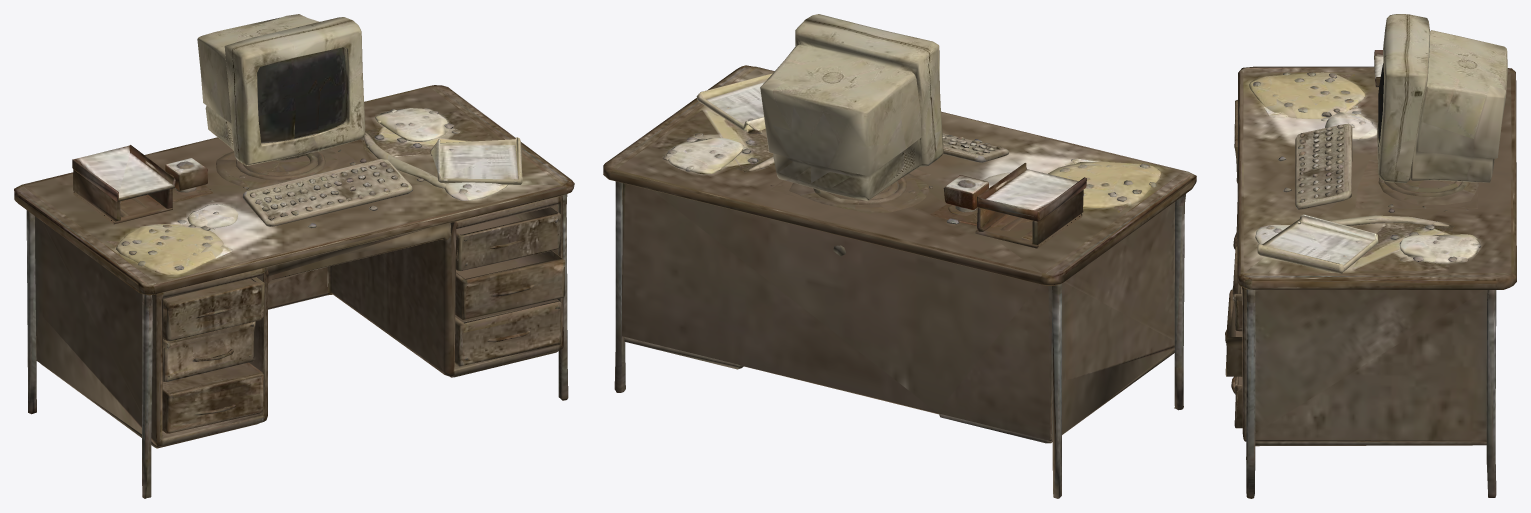
Rendered from desk.glb.
The picture shows the model from 3 angles, left to right: view 1: azimuth 30°, elevation 25°; view 2: azimuth 150°, elevation 25°; view 3: azimuth 270°, elevation 25°; orthographic projection. The views are drawn at different scales.
Bounding box in the file's own units: 1 × 0.785 × 0.5753.
Materials: 1 (1 with a texture image).
